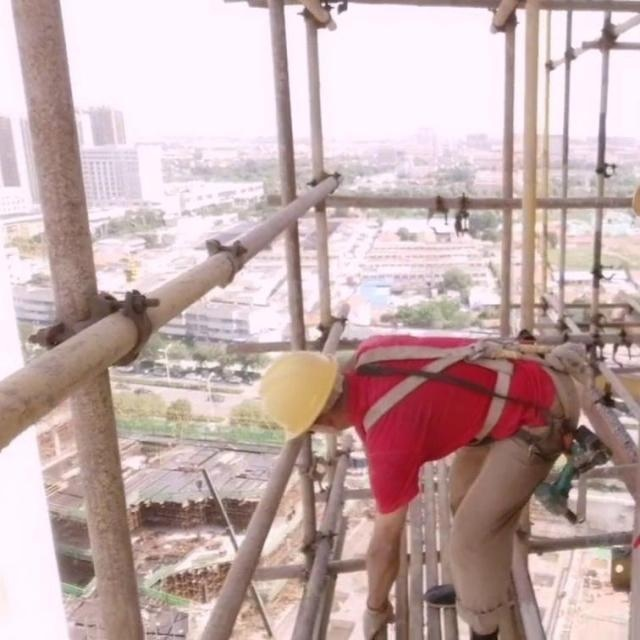Arnes_seguridad: (346, 323, 542, 450)
